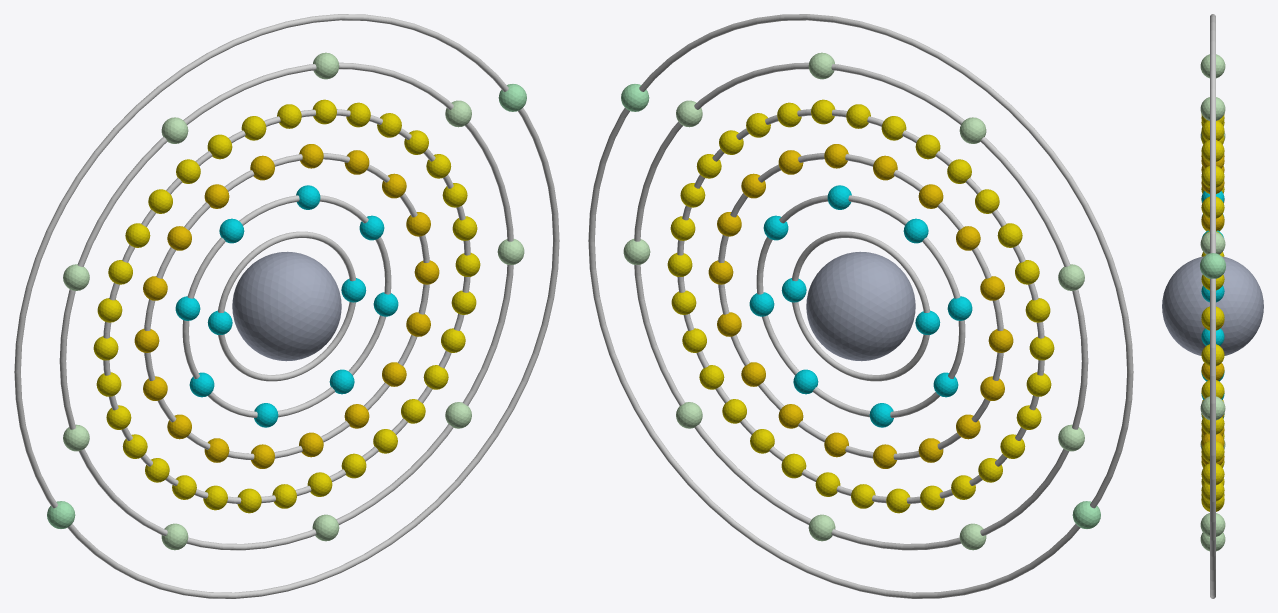
3 views of the same model, side by side, from view 1: azimuth 30°, elevation 25°; view 2: azimuth 150°, elevation 25°; view 3: azimuth 270°, elevation 25° (orthographic). The views are drawn at different scales.
Visible parts, largest first — view 1: world; view 2: world; view 3: world.
Boxes of the visible parts, x1=… form: world: x1=14, y1=14, x2=559, y2=598; world: x1=588, y1=14, x2=1133, y2=598; world: x1=1162, y1=14, x2=1263, y2=598.
Bounding box in the file's own units: 2.53 × 2.53 × 0.44.
